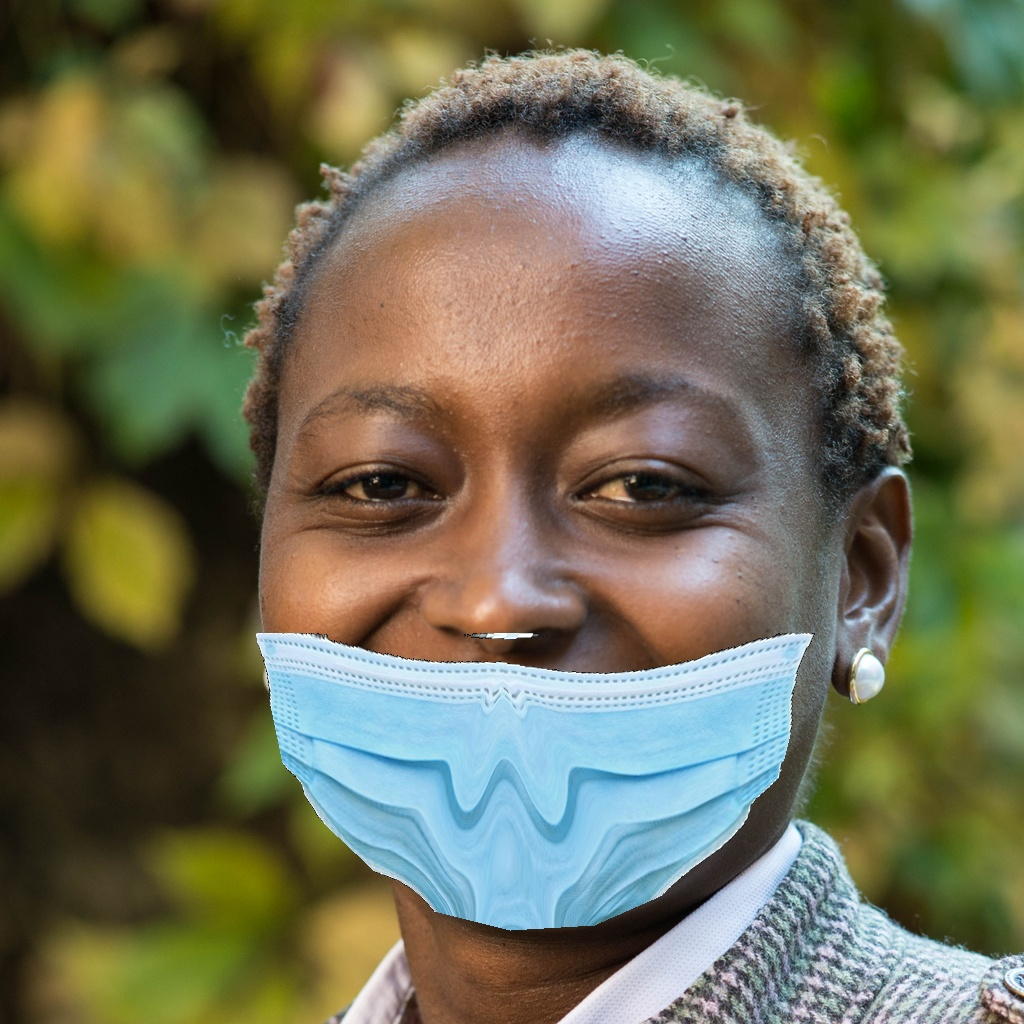Mask_Mouth_Chin: (257, 372, 819, 936)
